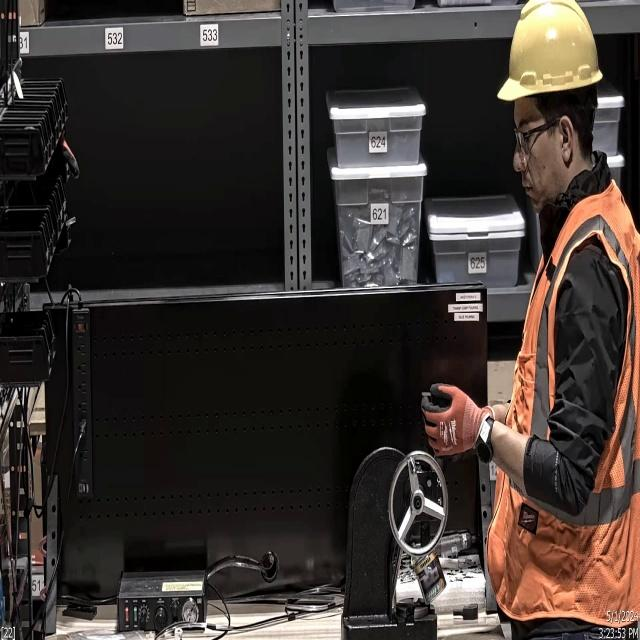construction-gloves: (418, 382, 493, 468)
